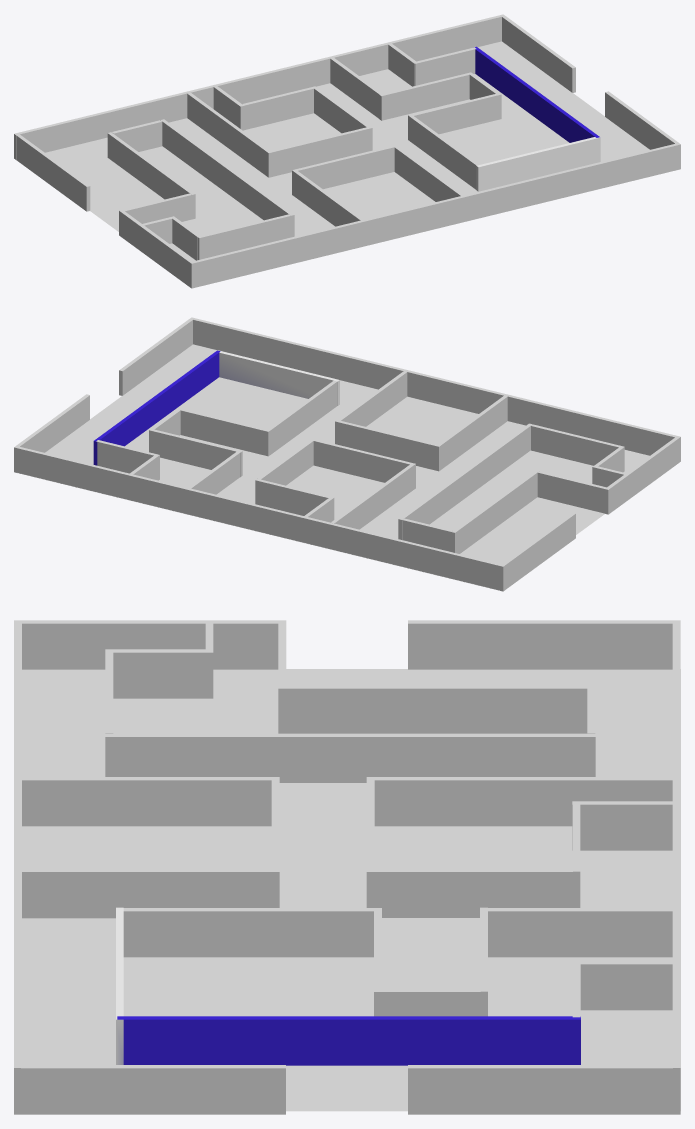
The model's file is Maze.fbx.
3 renders of one model, top to bottom at view 1: azimuth 30°, elevation 25°; view 2: azimuth 150°, elevation 25°; view 3: azimuth 270°, elevation 25°, orthographic. The views are drawn at different scales.
Parts seen in each view (by area): view 1: Maze Floor, Maze Exterior Wall, Maze Exterior Wall.001, Maze Interior Wall.017, Maze Interior Wall.001, Maze Interior Wall, Maze Interior Wall.009, Maze Interior Wall.007, Maze Interior Wall.010, Maze Interior Wall.014, Maze Interior Wall.018, Maze Interior Wall.022 (+19 smaller); view 2: Maze Floor, Maze Exterior Wall.001, Maze Exterior Wall, Maze Interior Wall.017, Maze Interior Wall, Maze Interior Wall.001, Maze Interior Wall.010, Maze Interior Wall.005, Maze Interior Wall.022, Maze Interior Wall.009, Maze Interior Wall.018, Maze Exterior Wall.004 (+18 smaller); view 3: Maze Floor, Maze Interior Wall, Maze Interior Wall.017, Maze Interior Wall.022, Maze Exterior Wall.003, Maze Exterior Wall.005, Maze Exterior Wall.002, Maze Interior Wall.004, Maze Interior Wall.015, Maze Interior Wall.014, Maze Interior Wall.011, Maze Exterior Wall.004 (+15 smaller).
Boxes of the visible parts, <box> form: Maze Floor: <box>45,41,649,261</box>; Maze Exterior Wall: <box>189,143,680,288</box>; Maze Exterior Wall.001: <box>14,14,504,159</box>; Maze Interior Wall.017: <box>160,119,294,237</box>; Maze Interior Wall.001: <box>476,137,600,191</box>; Maze Interior Wall: <box>475,46,599,142</box>; Maze Interior Wall.009: <box>266,126,372,177</box>; Maze Interior Wall.007: <box>379,72,472,120</box>; Maze Interior Wall.010: <box>292,145,397,195</box>; Maze Interior Wall.014: <box>187,92,269,175</box>; Maze Interior Wall.018: <box>197,214,290,260</box>; Maze Interior Wall.022: <box>107,132,195,219</box>; Maze Floor: <box>18,344,649,590</box>; Maze Exterior Wall.001: <box>14,446,505,591</box>; Maze Exterior Wall: <box>190,317,680,462</box>; Maze Interior Wall.017: <box>398,423,532,539</box>; Maze Interior Wall: <box>93,350,220,465</box>; Maze Interior Wall.001: <box>217,350,339,405</box>; Maze Interior Wall.010: <box>335,420,441,471</box>; Maze Interior Wall.005: <box>177,408,270,456</box>; Maze Interior Wall.022: <box>451,470,539,553</box>; Maze Interior Wall.009: <box>310,438,415,489</box>; Maze Interior Wall.018: <box>531,424,624,472</box>; Maze Exterior Wall.004: <box>604,437,678,514</box>; Maze Floor: <box>22,669,680,1111</box>; Maze Interior Wall: <box>117,1016,580,1065</box>; Maze Interior Wall.017: <box>105,733,595,782</box>; Maze Interior Wall.022: <box>278,685,595,733</box>; Maze Exterior Wall.003: <box>408,1065,672,1114</box>; Maze Exterior Wall.005: <box>408,620,672,669</box>; Maze Exterior Wall.002: <box>21,1065,285,1114</box>; Maze Interior Wall.004: <box>123,908,375,957</box>; Maze Interior Wall.015: <box>20,777,271,826</box>; Maze Interior Wall.014: <box>374,777,672,826</box>; Maze Interior Wall.011: <box>22,868,272,918</box>; Maze Exterior Wall.004: <box>21,620,286,669</box>.
Size of the model in its own units: 16006 by 775 by 10072.
